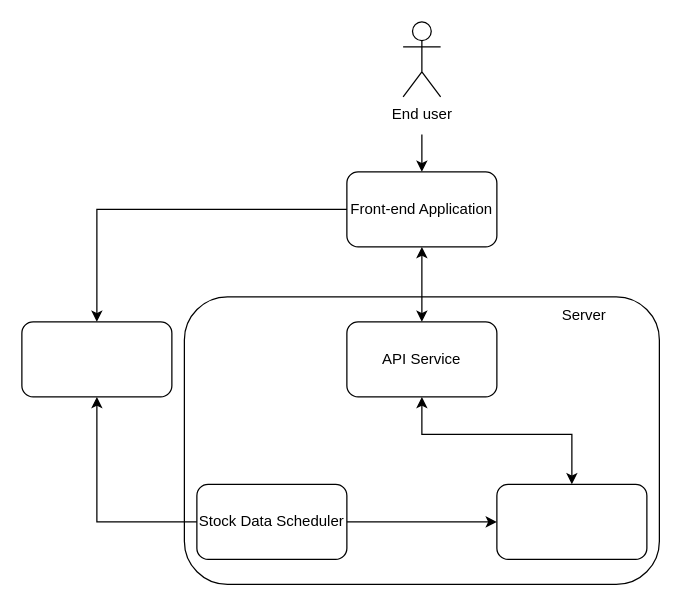
The diagram is 681 pixels wide and 606 high, and some of its shapes have lost their labels. The shapes that lost their labels are listed below. From the top down, each one's centre as x and y in pixels, then its label:
At point (96, 359): "Stock Exchange API".
At point (571, 521): "Database".
